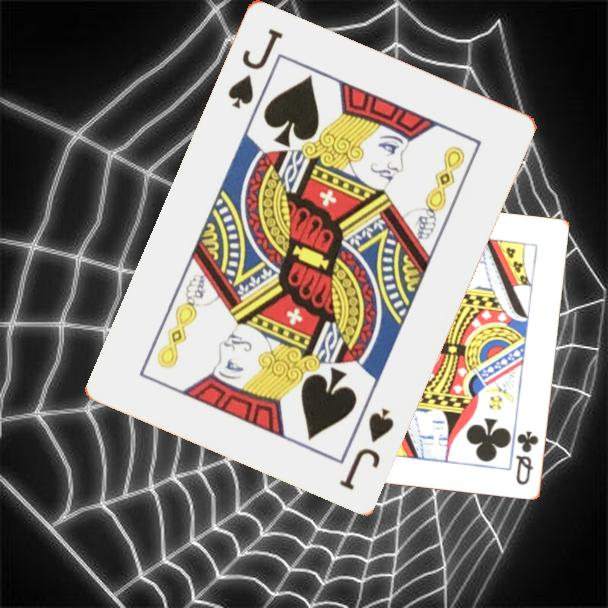c12: (512, 428, 542, 488)
s11: (335, 404, 397, 493), (223, 24, 286, 111)
